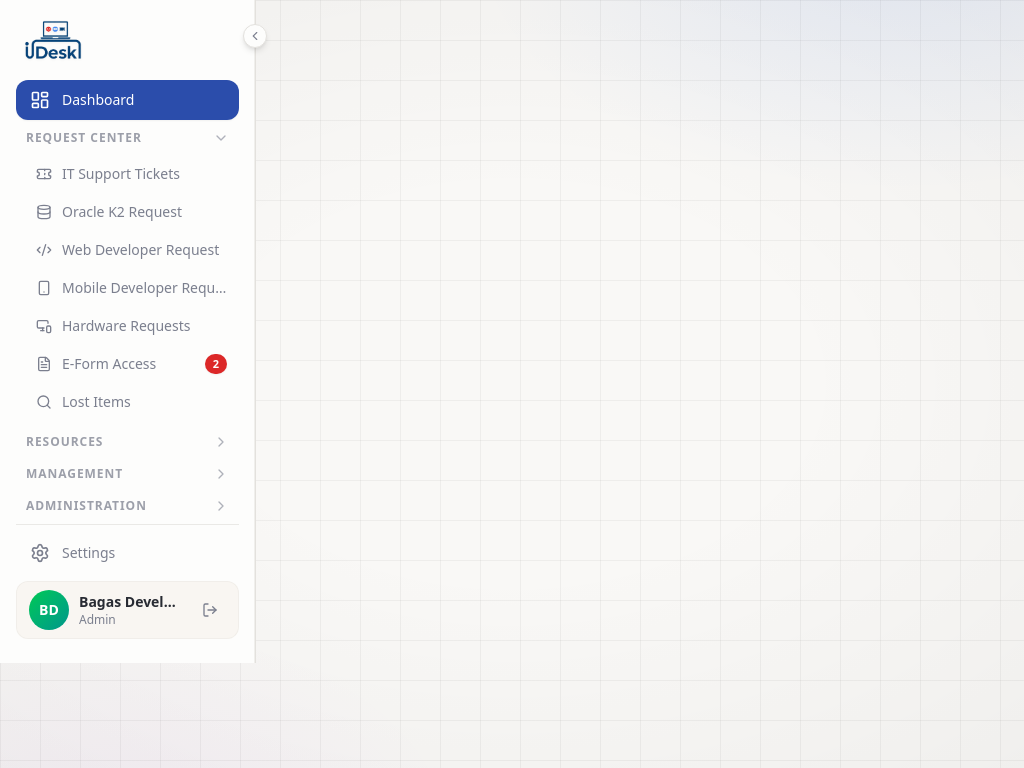
it: BentoSidebar › toggles collapse mode and renders icon-only sidebar with new logo
Click the button titled "Collapse sidebar".
click(255, 36)  # box x1=243 y1=24 x2=267 y2=48
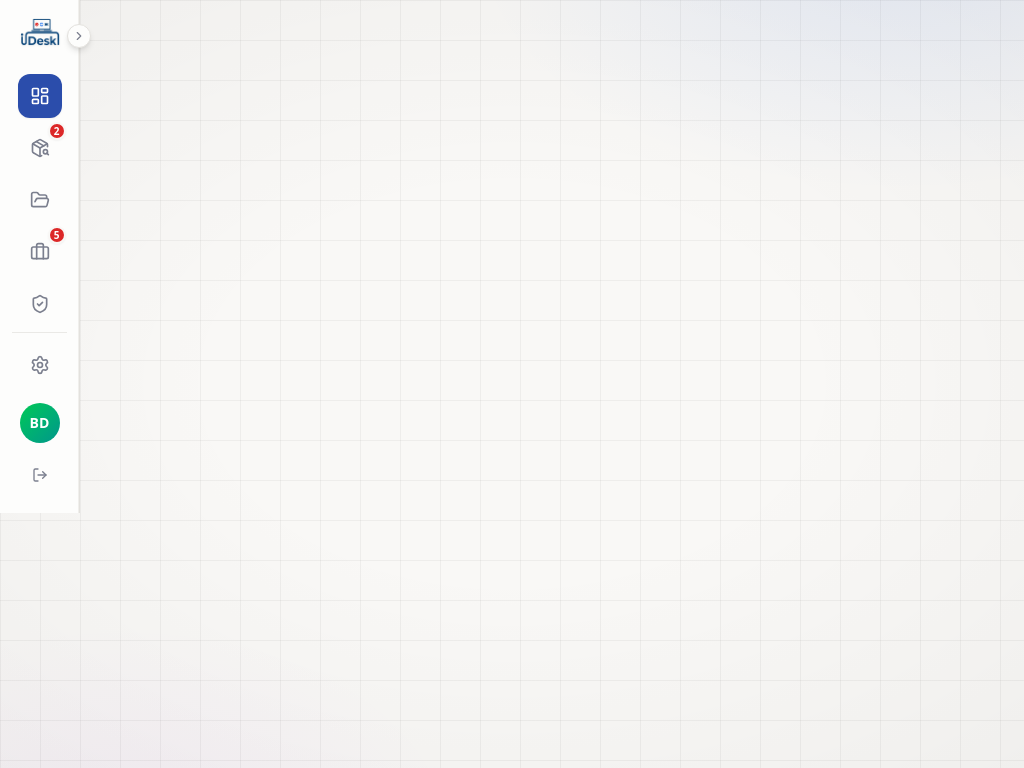
Now the button titled "Expand sidebar" is shown, box x1=67 y1=24 x2=91 y2=48
